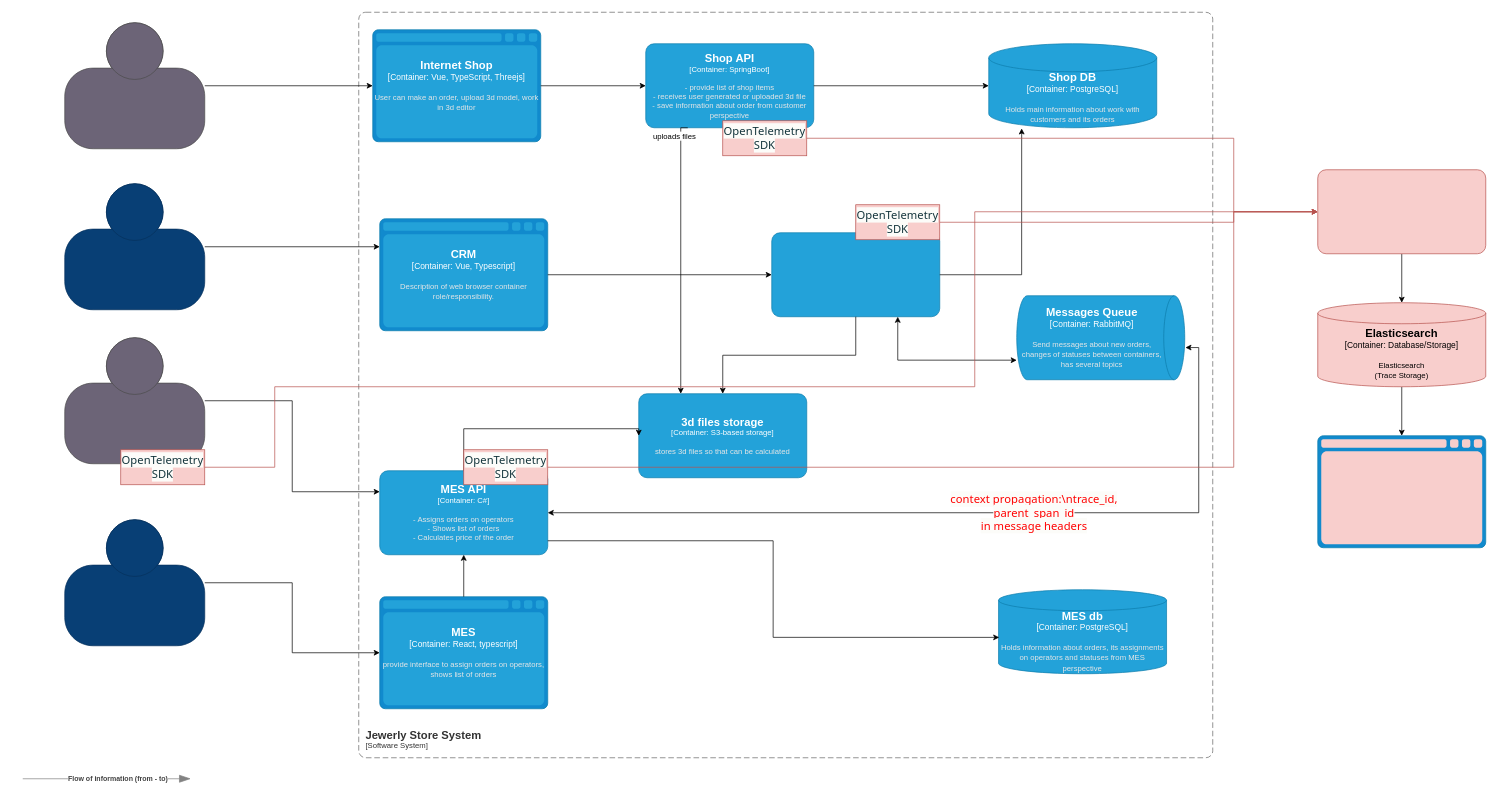
This 1498x802 diagram has some shape labels left out. Here are the shapes that lost their labels. From the top down, the centre of each, then its label:
At (134,85): "Customer [Person] Description of external person.".
At (1401,211): "Jaeger Collector [Software System] Jaeger Collector (OpenTelemetry Protocol)".
At (134,246): "Seller [Person] Operates with order, confirms manufacturing for the user".
At (855,274): "CRM API [Container: SpringBoot] Description of container role/responsibility.".
At (134,400): "API user [Person] Description of external person.".
At (1401,491): "Jaeger UI [Software System: ] Jaeger UI (Trace Visualization)".
At (134,582): "Operator [Person] Takes order in work, manufactures jewerly".
